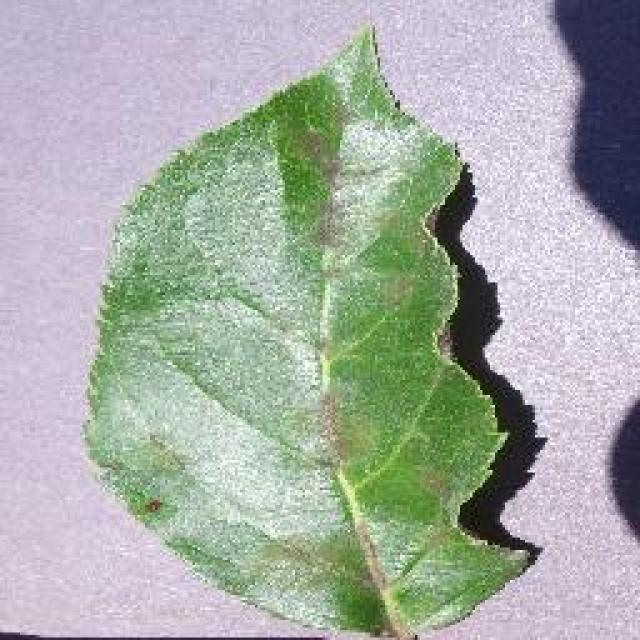apple scab disease: (80, 20, 542, 638)
